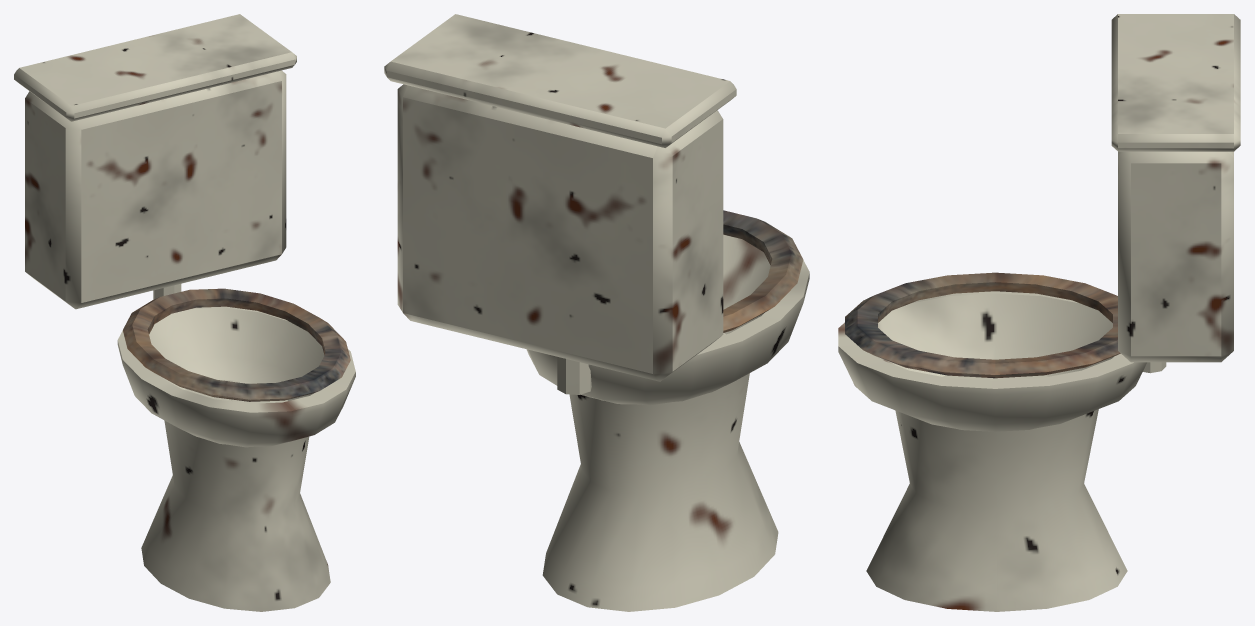
File: Toilet_Old.fbx
3 renders of one model, left to right at view 1: azimuth 30°, elevation 25°; view 2: azimuth 150°, elevation 25°; view 3: azimuth 270°, elevation 25°, orthographic. The views are drawn at different scales.
Visible parts, largest first — view 1: Toilet_Old; view 2: Toilet_Old; view 3: Toilet_Old.
Boxes of the visible parts, left/top/right/bottom form: Toilet_Old: left=14, top=14, right=355, bottom=611; Toilet_Old: left=384, top=14, right=809, bottom=611; Toilet_Old: left=838, top=14, right=1240, bottom=611.
Bounding box in the file's own units: 0.46 × 0.85 × 0.6232.
